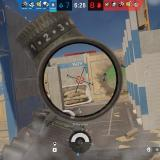Friend_label: (145, 65, 150, 70), (67, 75, 72, 79)
